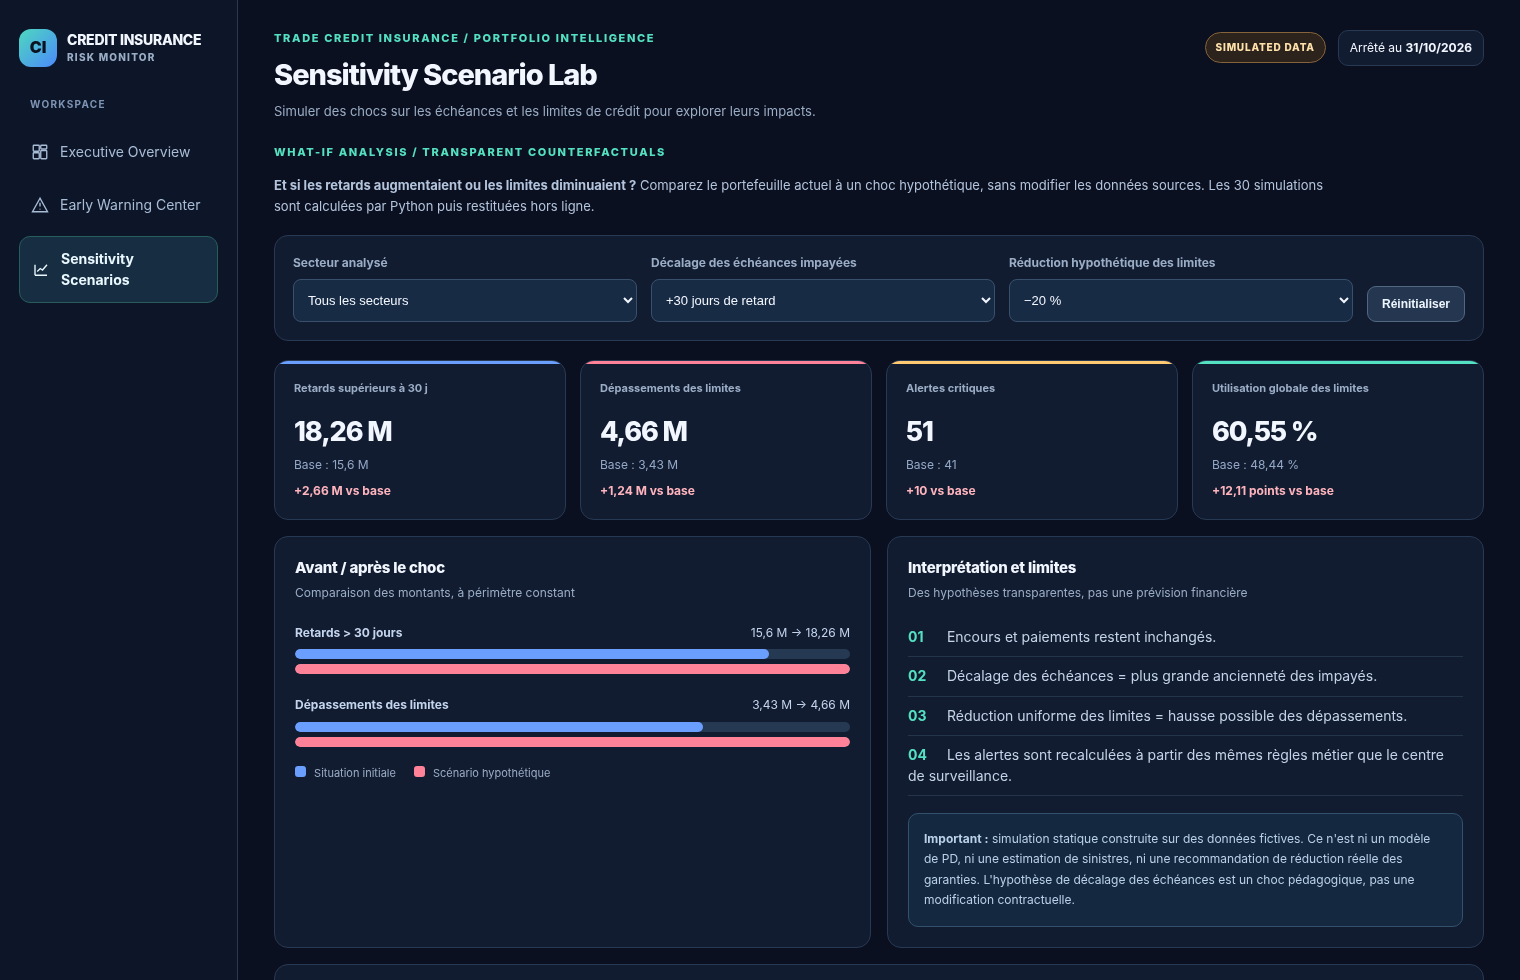

Layout of this report page (visuals, bound fields, positions):
{"tool":"powerbi","page":{"name":"Sensitivity Analysis","canvas":[1280,720],"ordinal":2},"visuals":[{"type":"shape","box":[0,0,1280,111],"z":0},{"type":"shape","box":[0,0,10,111],"z":0},{"type":"shape","box":[40,100,1200,2],"z":0},{"type":"shape","box":[35,231,1210,2],"z":0},{"type":"shape","box":[40,659,1200,2],"z":0},{"type":"shape","box":[39,387,5,23],"z":2},{"type":"textbox","box":[40,15,1040,50],"z":10},{"type":"textbox","box":[42,67,980,30],"z":10},{"type":"textbox","box":[45,678,1180,27],"z":10},{"type":"slicer","fields":{"Values":["Scenarios.aging_days"]},"box":[20,128,310,72],"z":12},{"type":"slicer","fields":{"Values":["Scenarios.limit_cut_pct"]},"box":[365,128,350,72],"z":12},{"type":"cardVisual","fields":{"Data":["Scenarios.Retards 30j Scenario MAD"]},"box":[20,254,288,125],"z":12},{"type":"cardVisual","fields":{"Data":["Scenarios.Depassement Scenario MAD"]},"box":[330,254,288,125],"z":12},{"type":"cardVisual","fields":{"Data":["Scenarios.Alertes Critiques Scenario"]},"box":[640,254,288,125],"z":12},{"type":"cardVisual","fields":{"Data":["Scenarios.Utilisation Scenario"]},"box":[950,254,288,125],"z":12},{"type":"clusteredColumnChart","title":"Retards moyens selon le choc de délais","fields":{"Category":["Scenarios.aging_days"],"Y":["Scenarios.Moyenne Retards par Choc"]},"box":[20,414,585,230],"z":12},{"type":"clusteredColumnChart","title":"Dépassements moyens selon les limites","fields":{"Category":["Scenarios.limit_cut_pct"],"Y":["Scenarios.Moyenne Depassement par Choc"]},"box":[625,414,585,230],"z":12},{"type":"textbox","box":[47,114,800,20],"z":15},{"type":"textbox","box":[40,386,420,25],"z":15}]}

Visuals, with their boxes on the page's 1280x720 design canvas (x1, y1, x2, y2). These are canvas units, not pixel positions in the 1520x980 screenshot, which may show the page scaled, cropped or inside an application window:
shape: crop(0, 0, 1280, 111)
shape: crop(0, 0, 10, 111)
shape: crop(40, 100, 1240, 102)
shape: crop(35, 231, 1245, 233)
shape: crop(40, 659, 1240, 661)
shape: crop(39, 387, 44, 410)
textbox: crop(40, 15, 1080, 65)
textbox: crop(42, 67, 1022, 97)
textbox: crop(45, 678, 1225, 705)
slicer - Scenarios.aging_days: crop(20, 128, 330, 200)
slicer - Scenarios.limit_cut_pct: crop(365, 128, 715, 200)
cardVisual - Scenarios.Retards 30j Scenario MAD: crop(20, 254, 308, 379)
cardVisual - Scenarios.Depassement Scenario MAD: crop(330, 254, 618, 379)
cardVisual - Scenarios.Alertes Critiques Scenario: crop(640, 254, 928, 379)
cardVisual - Scenarios.Utilisation Scenario: crop(950, 254, 1238, 379)
"Retards moyens selon le choc de délais" clusteredColumnChart: crop(20, 414, 605, 644)
"Dépassements moyens selon les limites" clusteredColumnChart: crop(625, 414, 1210, 644)
textbox: crop(47, 114, 847, 134)
textbox: crop(40, 386, 460, 411)
